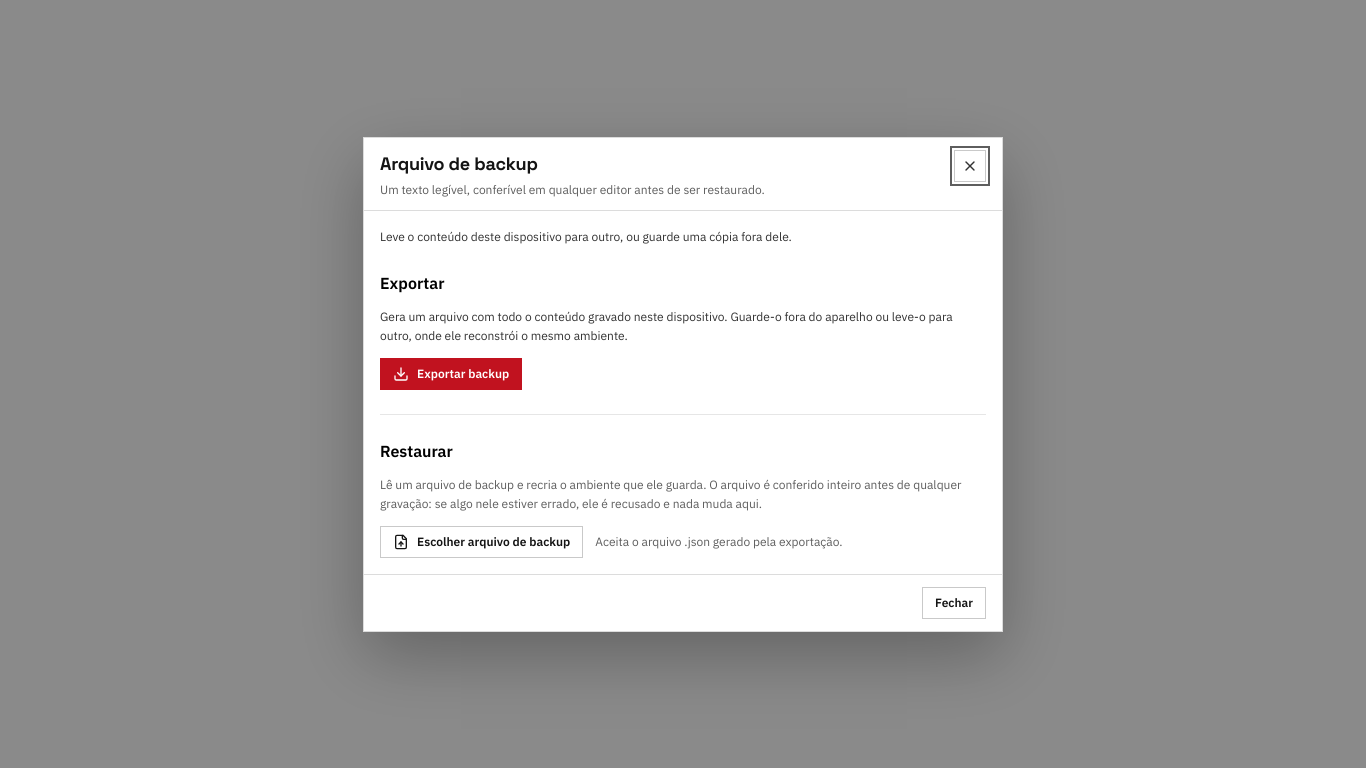
Test: exportar › avisa quando a leitura do armazenamento falha
Step 1. Click the button "Exportar backup" → point(451, 374), box [380,358,522,390]
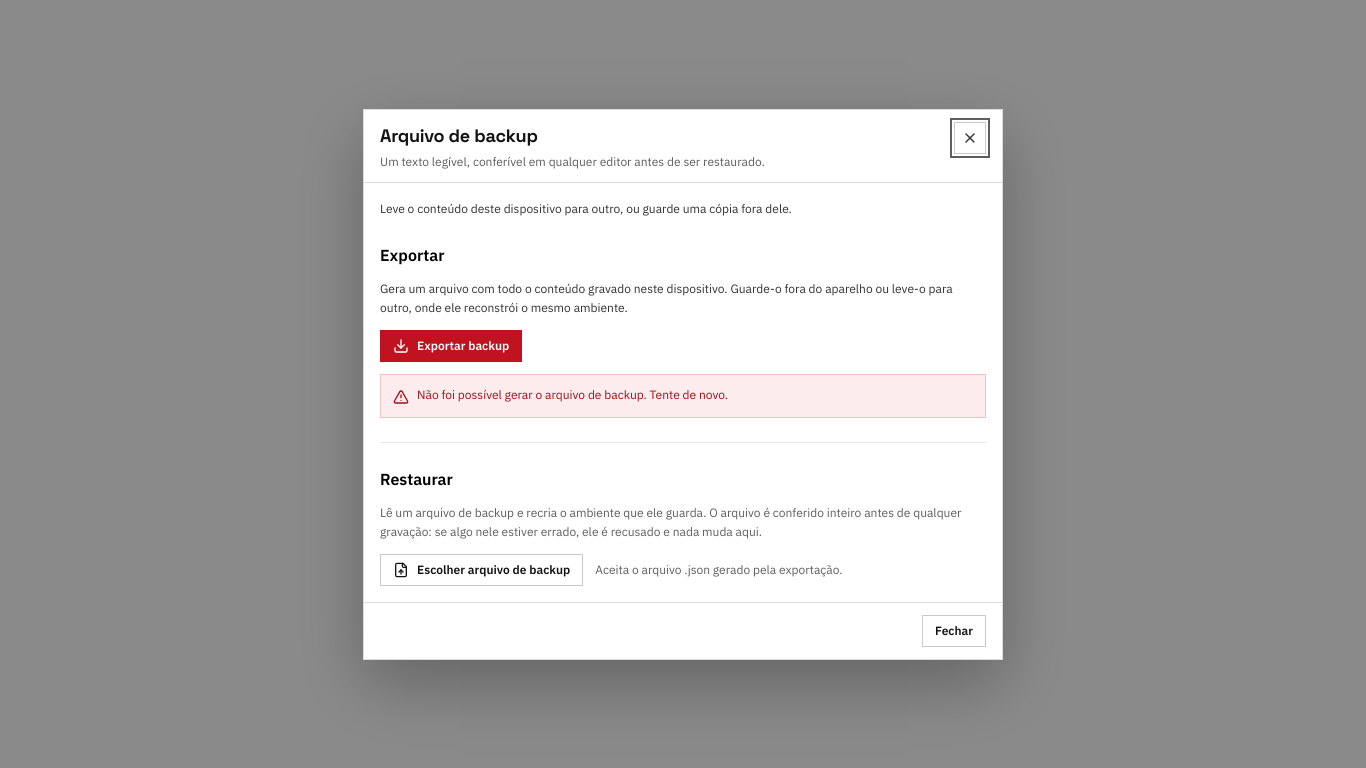
Expected: the text "Não foi possível gerar o arquivo de backup." is shown, [417,386,728,402]
